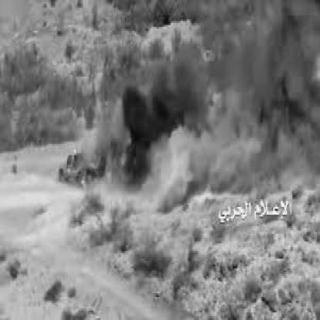Fire: (83, 136, 141, 187)
Smoke: (124, 66, 282, 174)
